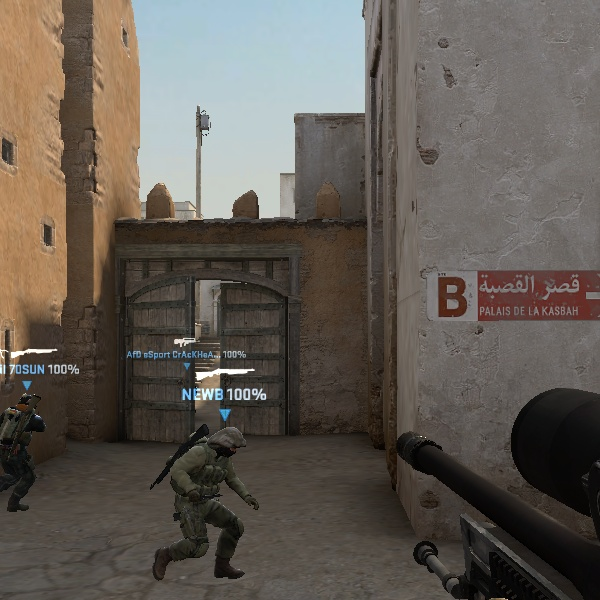ct_body: (156, 419, 257, 585), (1, 386, 65, 515)
ct_head: (206, 424, 248, 469), (13, 387, 45, 418)
